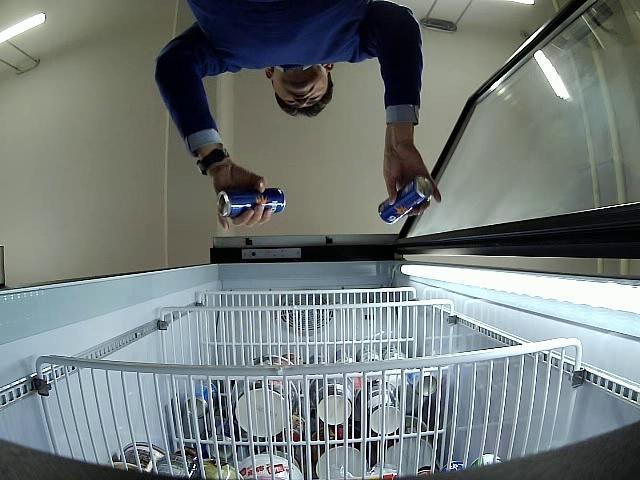16_hot6: (378, 177, 435, 224), (216, 188, 286, 217)
